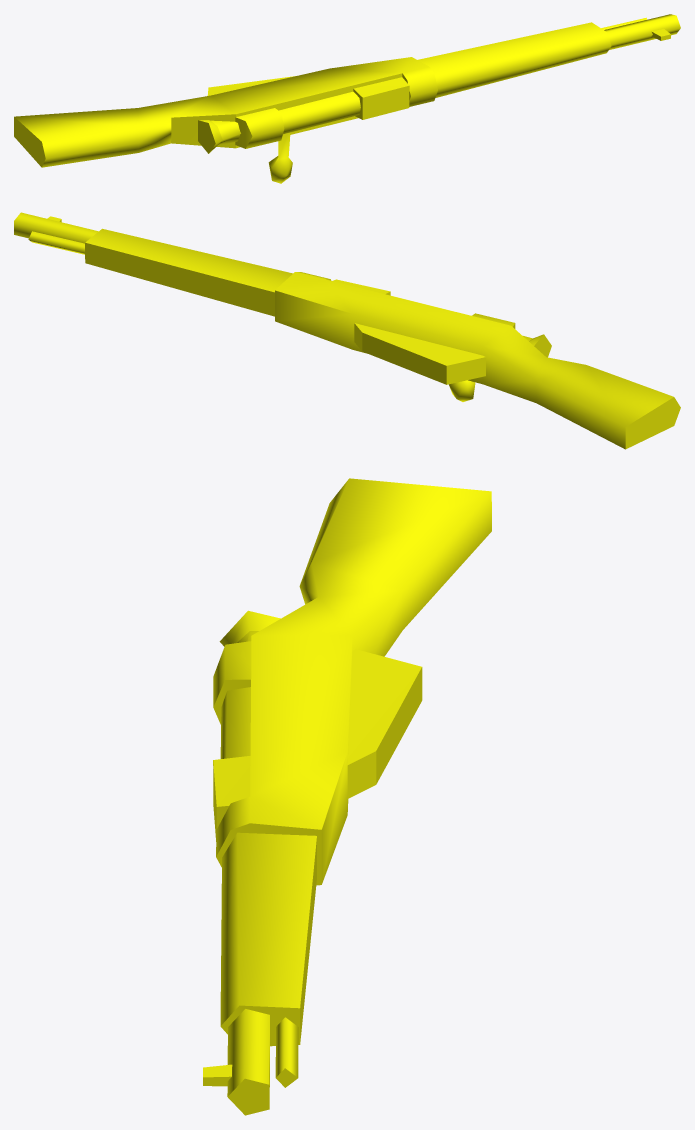
File: weapon_mosin_nagant.glb
3 renders of one model, top to bottom at view 1: azimuth 30°, elevation 25°; view 2: azimuth 150°, elevation 25°; view 3: azimuth 270°, elevation 25°, orthographic. The views are drawn at different scales.
Parts seen in each view (by area): view 1: weapon_mosin_nagant; view 2: weapon_mosin_nagant; view 3: weapon_mosin_nagant.
Part boxes in pixels (left/top/right/bottom): weapon_mosin_nagant: left=14, top=14, right=680, bottom=183; weapon_mosin_nagant: left=14, top=212, right=680, bottom=449; weapon_mosin_nagant: left=203, top=478, right=491, bottom=1115.
Size of the model in its own units: 1.86 by 0.2346 by 0.3823.
Materials: 1 (1 with a texture image).
